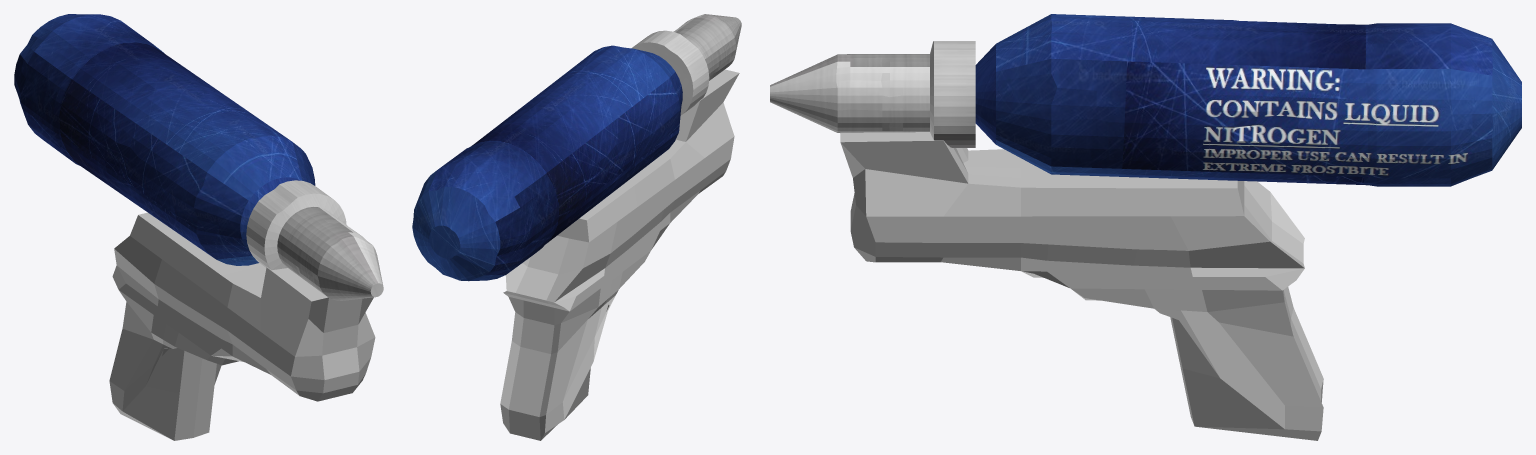
Rendered from coldgun.fbx.
The picture shows the model from 3 angles, left to right: view 1: azimuth 30°, elevation 25°; view 2: azimuth 150°, elevation 25°; view 3: azimuth 270°, elevation 25°; orthographic projection. The views are drawn at different scales.
Parts seen in each view (by area): view 1: Cylinder.001, Cylinder, Cylinder.002; view 2: Cylinder.001, Cylinder, Cylinder.002; view 3: Cylinder.001, Cylinder, Cylinder.002.
Boxes of the visible parts, x1,y1,x2,y2 form: Cylinder.001: (14, 14, 315, 265); Cylinder: (109, 212, 375, 440); Cylinder.002: (246, 180, 383, 300); Cylinder.001: (412, 45, 682, 281); Cylinder: (500, 69, 739, 440); Cylinder.002: (632, 14, 741, 115); Cylinder.001: (975, 14, 1521, 186); Cylinder: (840, 132, 1323, 440); Cylinder.002: (770, 41, 975, 147).
Size of the model in its own units: 99.84 by 275 by 457.
